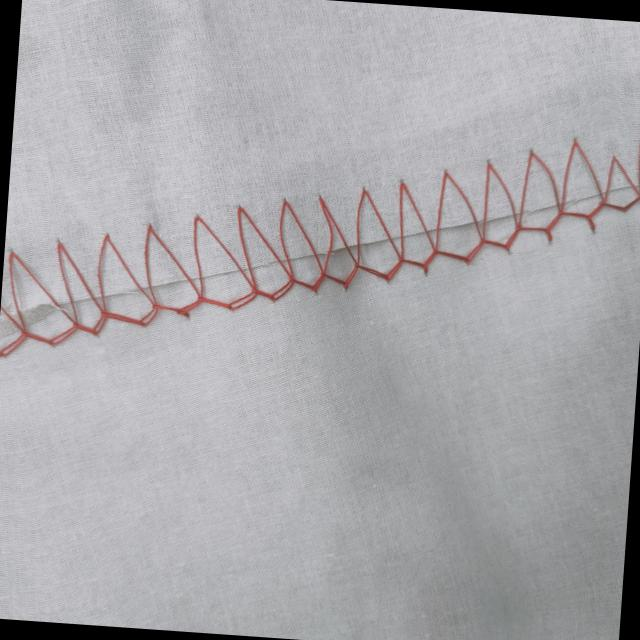gray stitch: (1, 162, 342, 380), (335, 103, 640, 312)
